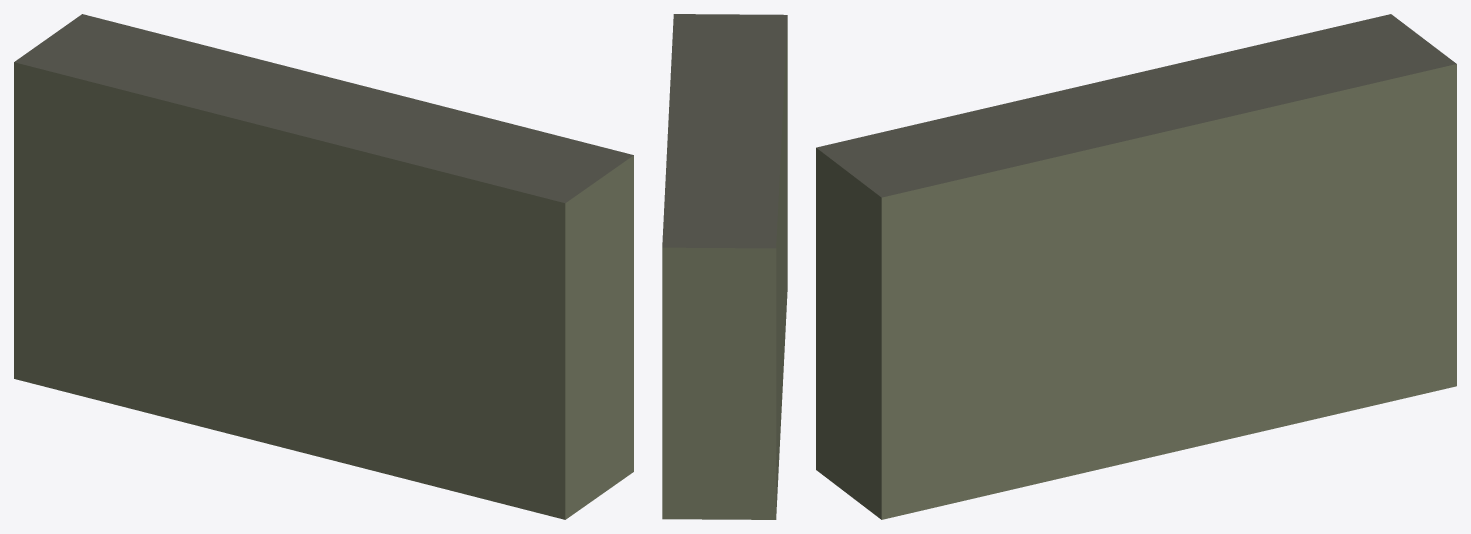
The model's file is nyc-1016038-0.glb.
3 views of the same model, side by side, from view 1: azimuth 30°, elevation 25°; view 2: azimuth 150°, elevation 25°; view 3: azimuth 270°, elevation 25° (orthographic). The views are drawn at different scales.
Visible parts, largest first — view 1: nyc-1016038-0; view 2: nyc-1016038-0; view 3: nyc-1016038-0.
Part boxes in pixels (x1,y1,x2,y2): nyc-1016038-0: (14,14,633,519); nyc-1016038-0: (662,14,787,519); nyc-1016038-0: (816,14,1456,519).
Size of the model in its own units: 21.87 by 17.9 by 32.25.
